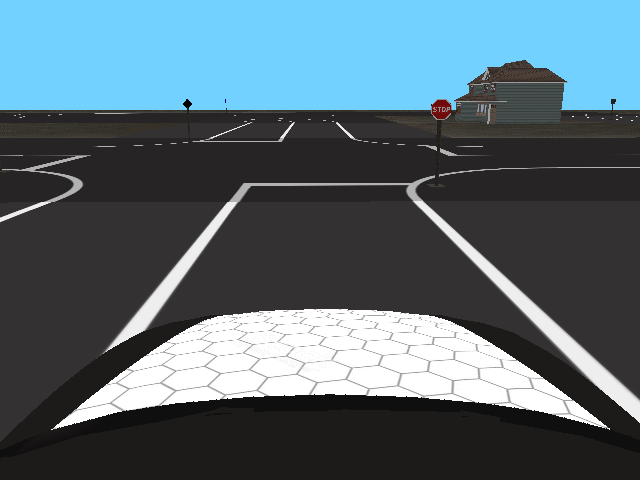stop: (431, 99, 452, 121)
